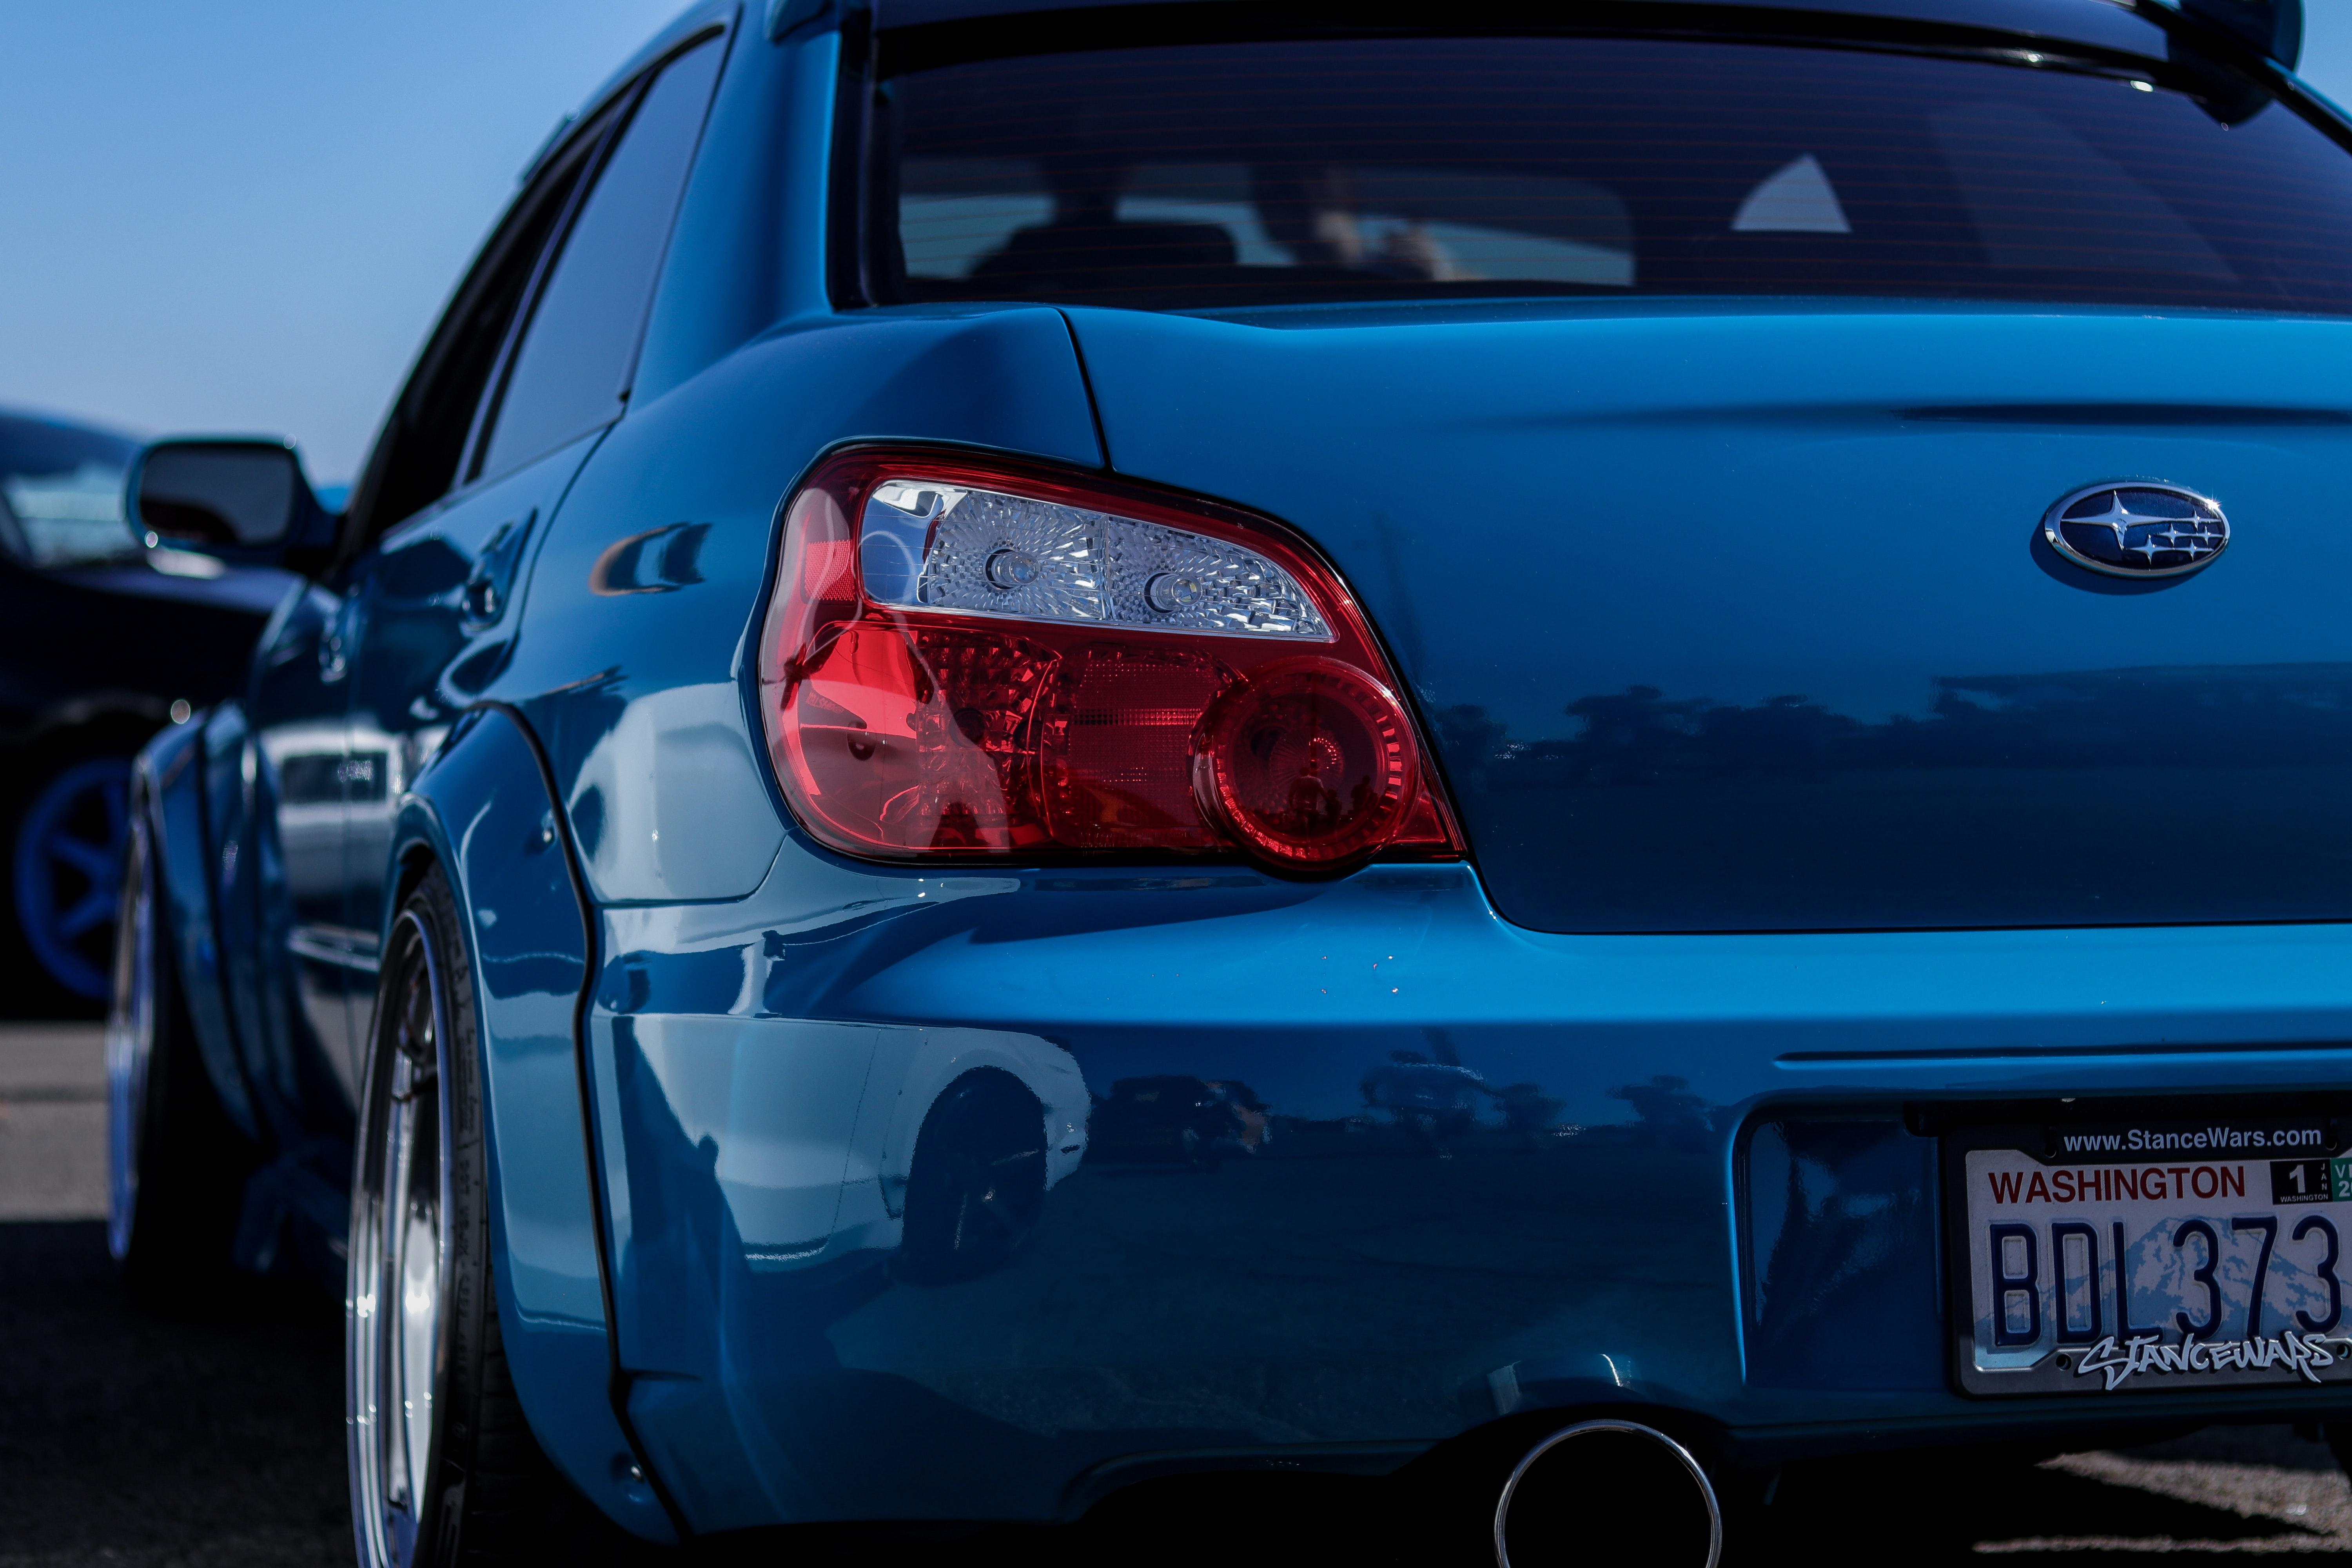subaru: (1969, 420, 2275, 641)
